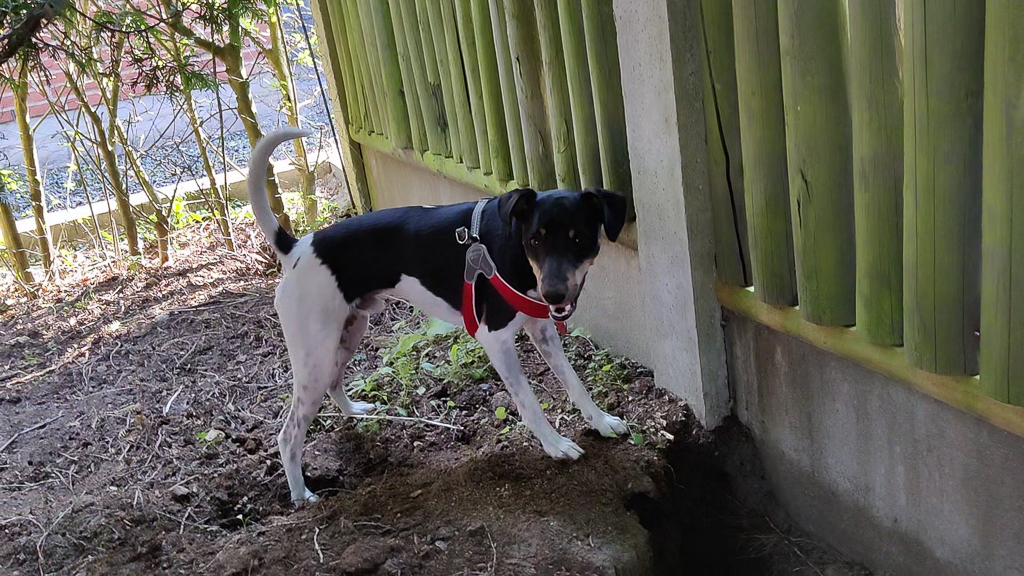Dog: (232, 115, 669, 519)
